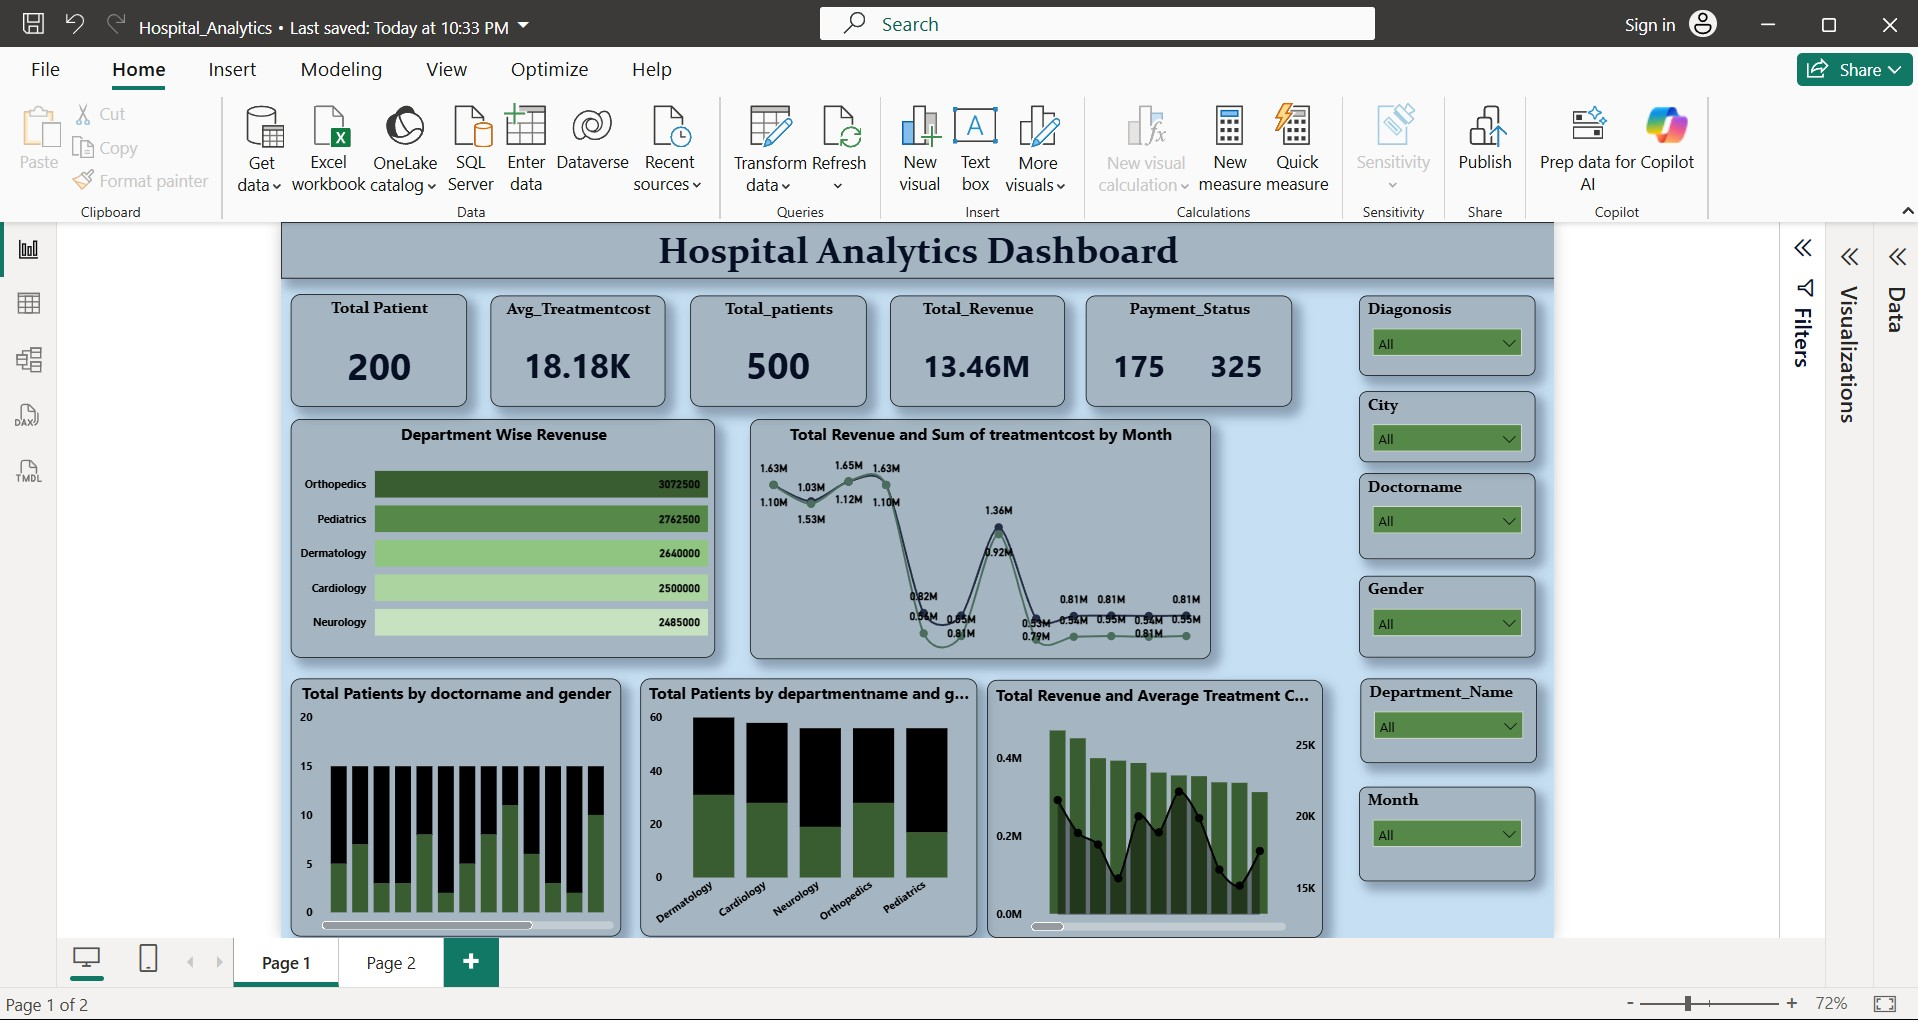

The dashboard page shown, as its layout file describes it:
{"tool":"powerbi","page":{"name":"Page 1","canvas":[1280,720],"ordinal":0},"visuals":[{"type":"cardVisual","title":"Total Patient","fields":{"Data":["billing.Total Patients"]},"box":[9.8,72.5,177.2,113],"z":0},{"type":"cardVisual","title":"Total_Revenue","fields":{"Data":["admissions.Total Revenue"]},"box":[612.4,73.9,175.8,111.6],"z":1000},{"type":"cardVisual","title":"Payment_Status","fields":{"Data":["admissions.Bills Pending","admissions.Bills Paid"]},"box":[809.1,73.9,207.8,111.6],"z":2000},{"type":"cardVisual","title":"Avg_Treatmentcost","fields":{"Data":["admissions.Average Treatment Cost"]},"box":[210.6,73.9,175.8,111.6],"z":3000},{"type":"cardVisual","title":"Total_patients","fields":{"Data":["admissions.Total Admissions"]},"box":[411.5,73.9,177.2,111.6],"z":4000},{"type":"slicer","title":"Department_Name","fields":{"Values":["departments.departmentname"]},"box":[1085.3,458.9,177.2,85.1],"z":5000},{"type":"slicer","title":"Diagonosis","fields":{"Values":["admissions.diagnosis"]},"box":[1083.9,73.9,177.2,80.9],"z":6000},{"type":"slicer","title":"Doctorname","fields":{"Values":["doctors.doctorname"]},"box":[1083.9,252.5,177.2,86.5],"z":7000},{"type":"slicer","title":"Month","fields":{"Values":["admissions.dischargedate.Variation.Date Hierarchy.Month"]},"box":[1083.9,567.7,177.2,94.9],"z":8000},{"type":"slicer","title":"City","fields":{"Values":["patients.city"]},"box":[1083.9,170.2,177.2,71.1],"z":9000},{"type":"slicer","title":"Gender","fields":{"Values":["patients.gender"]},"box":[1083.9,355.7,177.2,82.3],"z":10000},{"type":"hundredPercentStackedBarChart","title":"Department Wise Revenuse","fields":{"Category":["departments.departmentname"],"Y":["admissions.Total Revenue"]},"box":[9.8,198.1,426.8,239.9],"z":11000},{"type":"lineChart","fields":{"Category":["admissions.admitdate.Variation.Date Hierarchy.Month"],"Y":["admissions.Total Revenue"],"Y2":["Sum(billing.treatmentcost)"]},"box":[471.5,198.1,463.1,241.3],"z":12000},{"type":"columnChart","fields":{"Category":["doctors.doctorname"],"Y":["billing.Total Patients"],"Series":["patients.gender"]},"box":[9.8,458.9,332,259.5],"z":13000},{"type":"columnChart","fields":{"Category":["departments.departmentname"],"Y":["billing.Total Patients"],"Series":["patients.gender"]},"box":[361.3,458.9,339,259.5],"z":14000},{"type":"lineClusteredColumnComboChart","fields":{"Y":["admissions.Total Revenue"],"Y2":["admissions.Average Treatment Cost"],"Category":["patients.city"]},"box":[710,460.3,337.6,259.5],"z":15000},{"type":"textbox","box":[0,0,1280.5,57.2],"z":17000}]}

Visuals, with their boxes on the page's 1280x720 design canvas (x1, y1, x2, y2). These are canvas units, not pixel positions in the 1918x1020 screenshot, which may show the page scaled, cropped or inside an application window:
"Total Patient" cardVisual: x1=10 y1=72 x2=187 y2=186
"Total_Revenue" cardVisual: x1=612 y1=74 x2=788 y2=186
"Payment_Status" cardVisual: x1=809 y1=74 x2=1017 y2=186
"Avg_Treatmentcost" cardVisual: x1=211 y1=74 x2=386 y2=186
"Total_patients" cardVisual: x1=412 y1=74 x2=589 y2=186
"Department_Name" slicer: x1=1085 y1=459 x2=1262 y2=544
"Diagonosis" slicer: x1=1084 y1=74 x2=1261 y2=155
"Doctorname" slicer: x1=1084 y1=252 x2=1261 y2=339
"Month" slicer: x1=1084 y1=568 x2=1261 y2=663
"City" slicer: x1=1084 y1=170 x2=1261 y2=241
"Gender" slicer: x1=1084 y1=356 x2=1261 y2=438
"Department Wise Revenuse" hundredPercentStackedBarChart: x1=10 y1=198 x2=437 y2=438
lineChart - admissions.admitdate.Variation.Date Hierarchy.Month x admissions.Total Revenue: x1=472 y1=198 x2=935 y2=439
columnChart - doctors.doctorname x billing.Total Patients: x1=10 y1=459 x2=342 y2=718
columnChart - departments.departmentname x billing.Total Patients: x1=361 y1=459 x2=700 y2=718
lineClusteredColumnComboChart - admissions.Total Revenue x admissions.Average Treatment Cost: x1=710 y1=460 x2=1048 y2=720
textbox: x1=0 y1=0 x2=1280 y2=57
